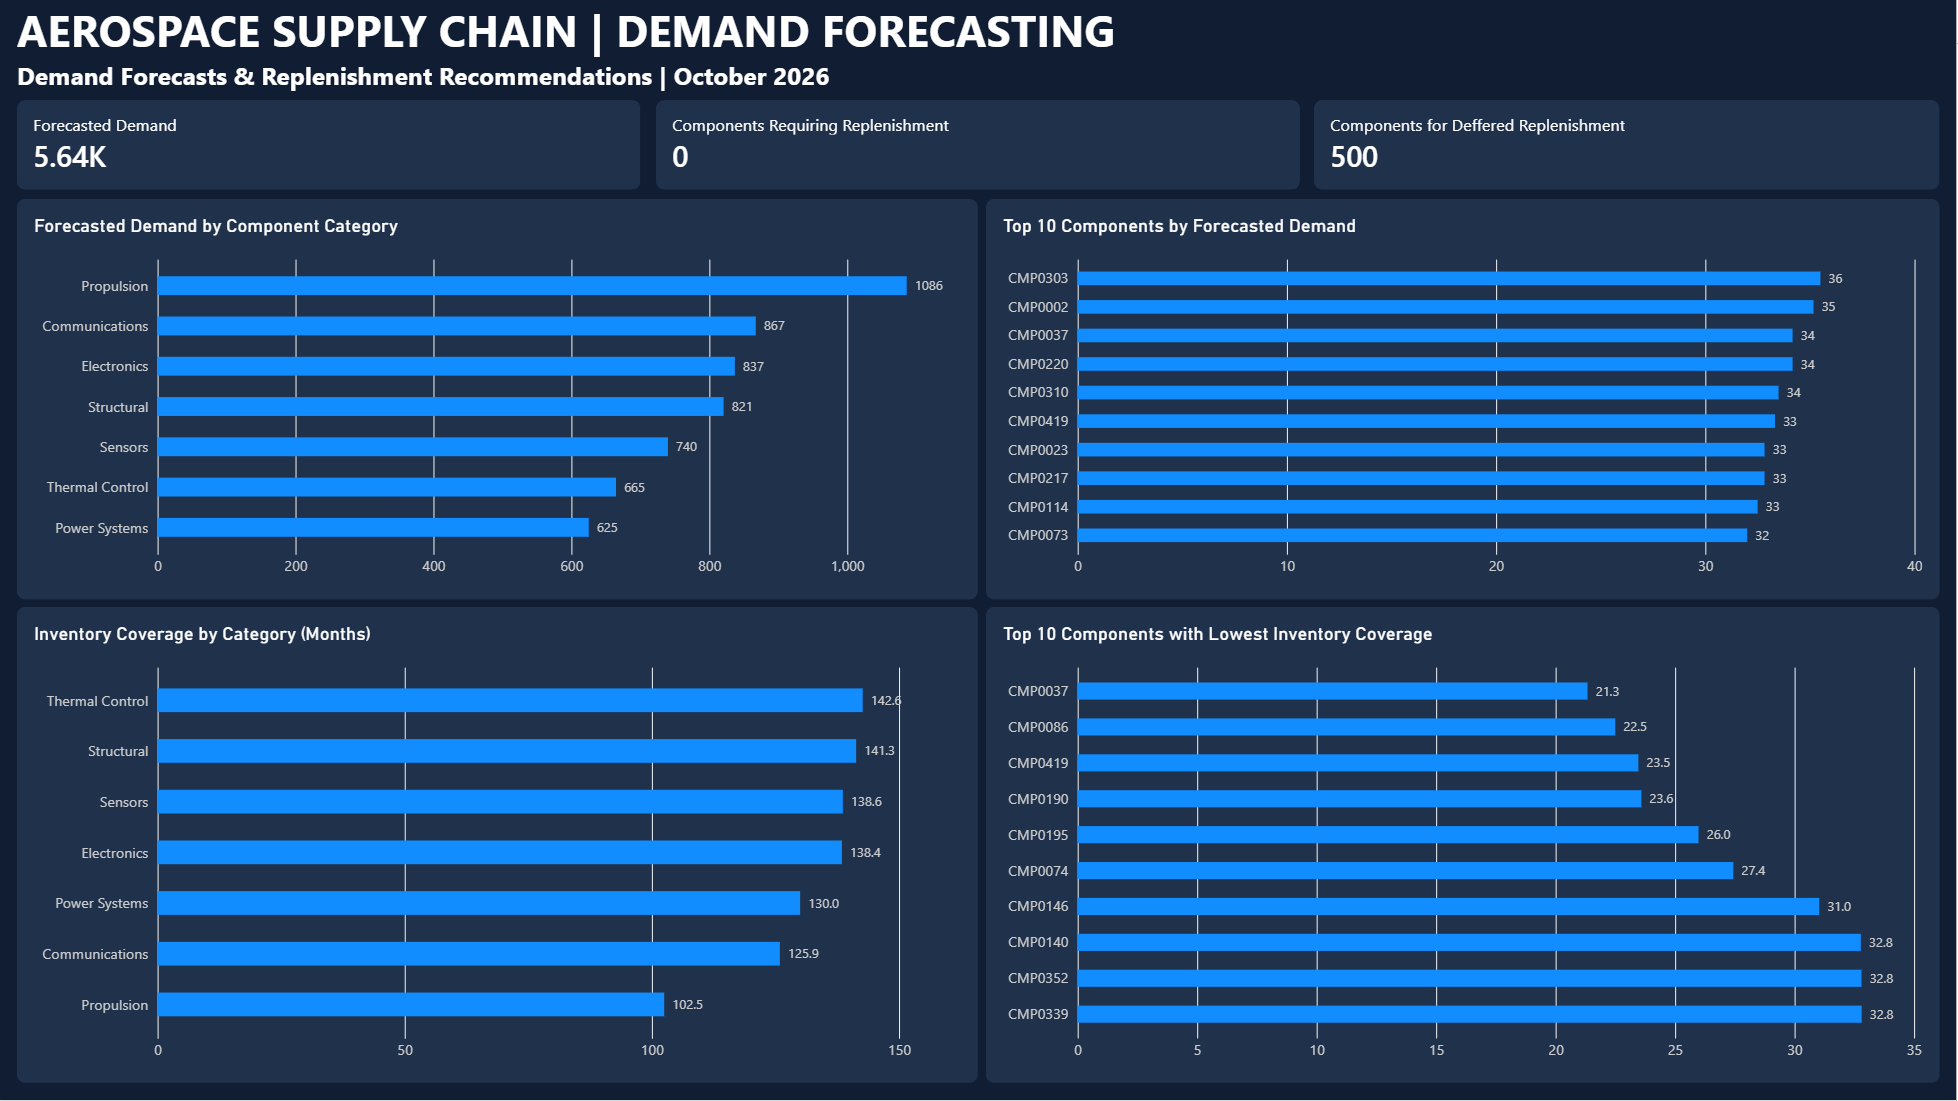

The page's visual inventory and layout, read from the dashboard file:
{"tool":"powerbi","page":{"name":"Demand Forecasting","canvas":[1920,1080],"ordinal":4},"visuals":[{"type":"textbox","box":[16.7,0,1115.1,98.2],"z":0},{"type":"cardVisual","fields":{"Data":["vw_demand_forecast.Forecasted Demand"]},"box":[16.7,98.2,612.5,88.3],"z":1000},{"type":"cardVisual","fields":{"Data":["vw_demand_forecast.Components Requiring Replenishment"]},"box":[643.9,98.2,632.1,88.3],"z":2000},{"type":"cardVisual","fields":{"Data":["vw_demand_forecast.Components for Deffered Replenishment"]},"box":[1289.8,98.2,614.5,88.3],"z":2001},{"type":"clusteredBarChart","title":"Forecasted Demand by Component Category","fields":{"Category":["vw_inventory_valuation.Category"],"Y":["vw_demand_forecast.Forecasted Demand"]},"box":[16.7,195.3,943.3,392.6],"z":2002},{"type":"clusteredBarChart","title":"Top 10 Components by Forecasted Demand","fields":{"Category":["vw_demand_forecast.ComponentID"],"Y":["vw_demand_forecast.Forecasted Demand"]},"box":[967.9,195.3,936.4,392.6],"z":2003},{"type":"clusteredBarChart","title":"Inventory Coverage by Category (Months)","fields":{"Category":["vw_inventory_valuation.Category"],"Y":["vw_inventory_valuation.Inventory Coverage (Months)"]},"box":[16.7,595.8,943.3,467.2],"z":2005},{"type":"clusteredBarChart","title":"Top 10 Components with Lowest Inventory Coverage","fields":{"Category":["vw_inventory_valuation.ComponentID"],"Y":["vw_inventory_valuation.Inventory Coverage (Months)"]},"box":[968,596,936,467],"z":2006}]}

Visuals, with their boxes in screenshot pixels (x1, y1, x2, y2), scaled from the page's 1920x1080 canvas onto the 1958x1101 screenshot:
textbox: {"left": 17, "top": 0, "right": 1154, "bottom": 100}
cardVisual - vw_demand_forecast.Forecasted Demand: {"left": 17, "top": 100, "right": 642, "bottom": 190}
cardVisual - vw_demand_forecast.Components Requiring Replenishment: {"left": 657, "top": 100, "right": 1301, "bottom": 190}
cardVisual - vw_demand_forecast.Components for Deffered Replenishment: {"left": 1315, "top": 100, "right": 1942, "bottom": 190}
"Forecasted Demand by Component Category" clusteredBarChart: {"left": 17, "top": 199, "right": 979, "bottom": 599}
"Top 10 Components by Forecasted Demand" clusteredBarChart: {"left": 987, "top": 199, "right": 1942, "bottom": 599}
"Inventory Coverage by Category (Months)" clusteredBarChart: {"left": 17, "top": 607, "right": 979, "bottom": 1084}
"Top 10 Components with Lowest Inventory Coverage" clusteredBarChart: {"left": 987, "top": 608, "right": 1942, "bottom": 1084}
